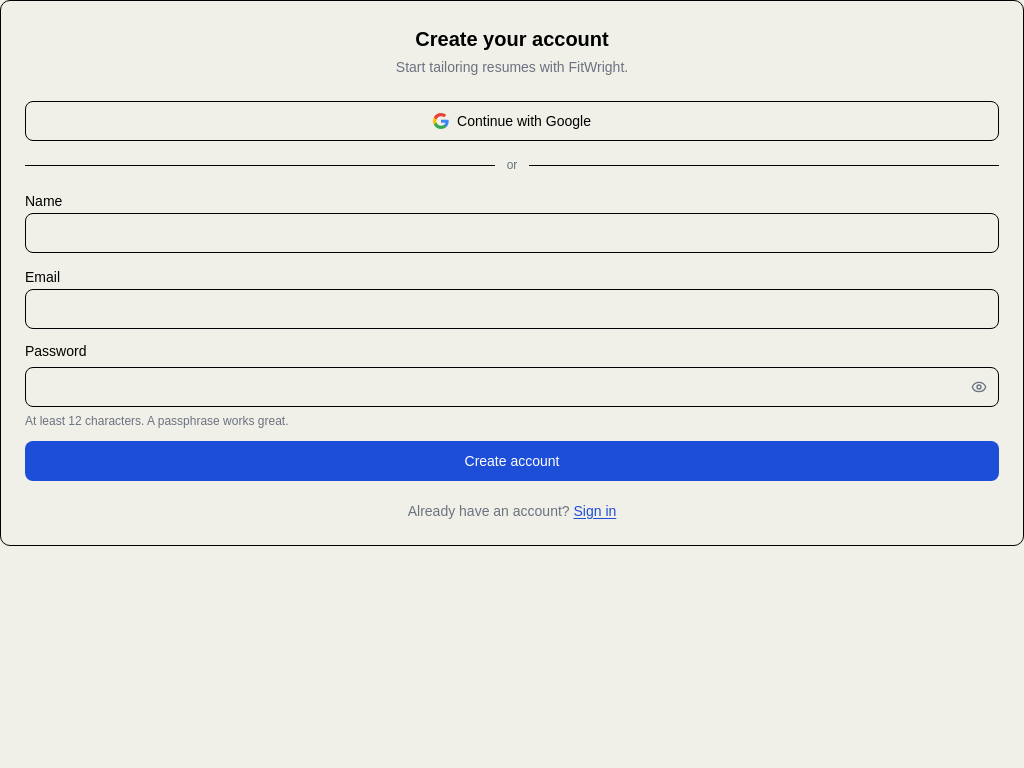
Test case: AuthCard › enforces the 12-char minimum on signup
Type "Ada" into the field labelled "Name" at [512, 233], box [25,213,999,253]
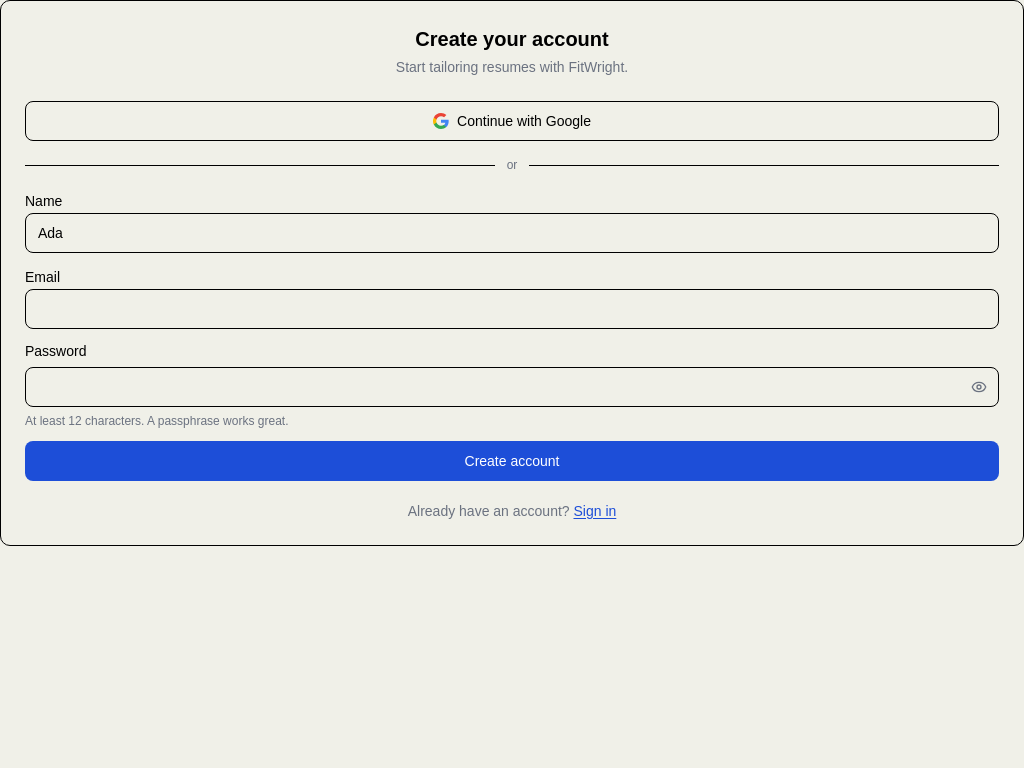
Type "a@b.com" into the field labelled "Email" at [512, 309], box [25,289,999,329]
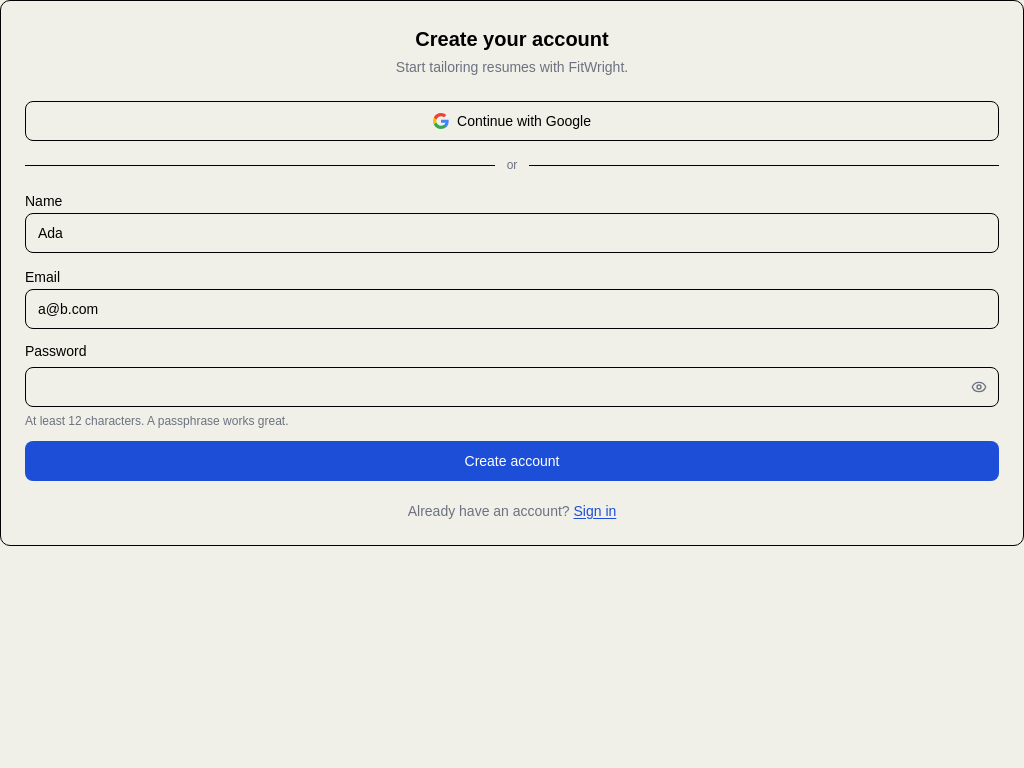
Type "short" into the password field labelled "Password" at [512, 387], box [25,367,999,407]
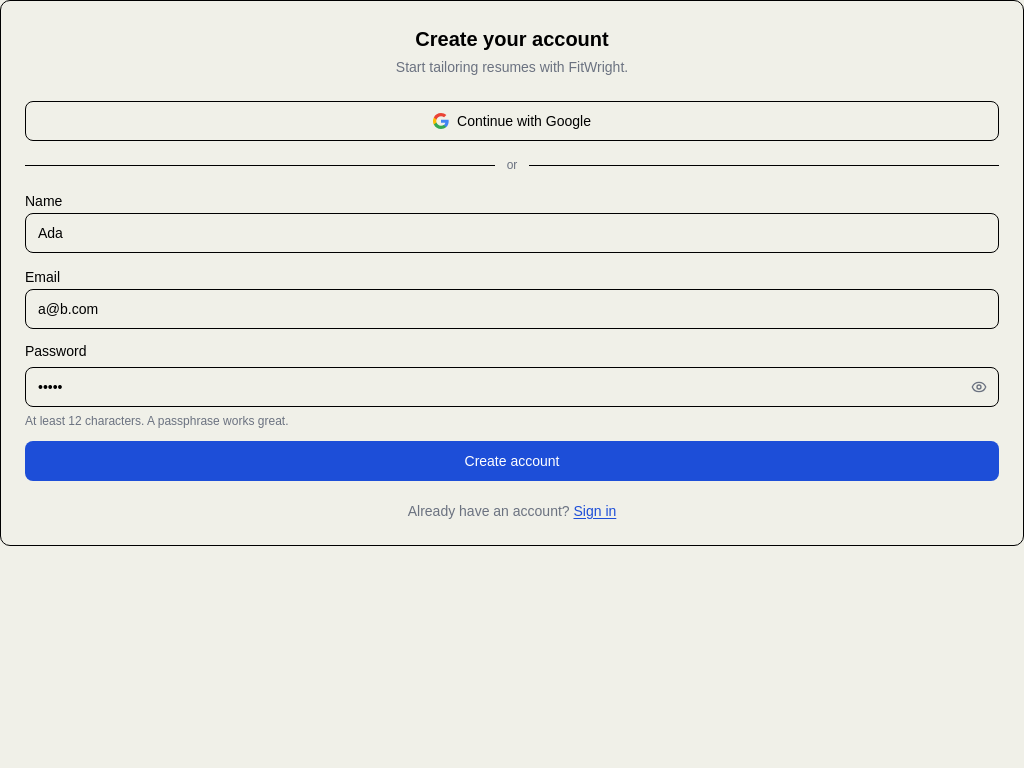
Click the button "Create account" at [512, 461], box [25,441,999,481]
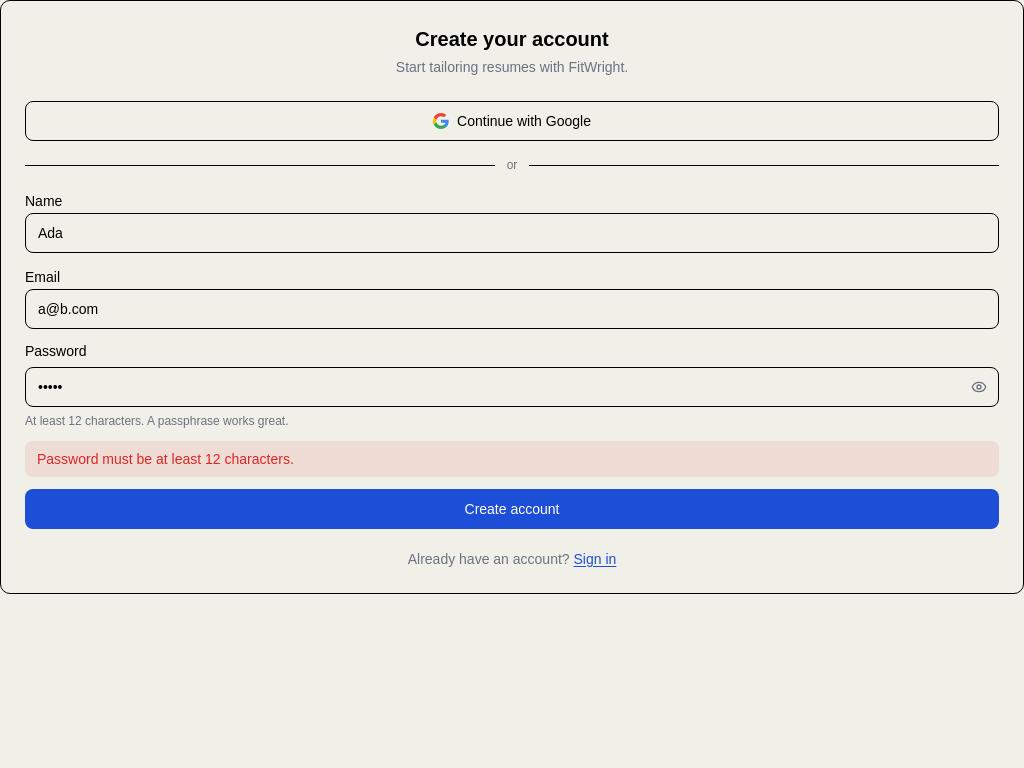
Expected: the message shows "at least 12", [37,451,294,467]
